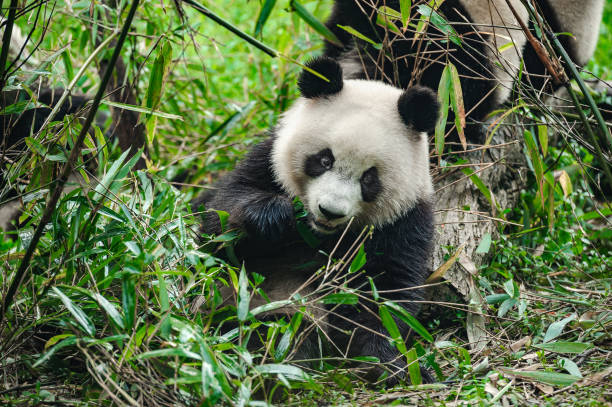panda: (254, 46, 449, 251)
